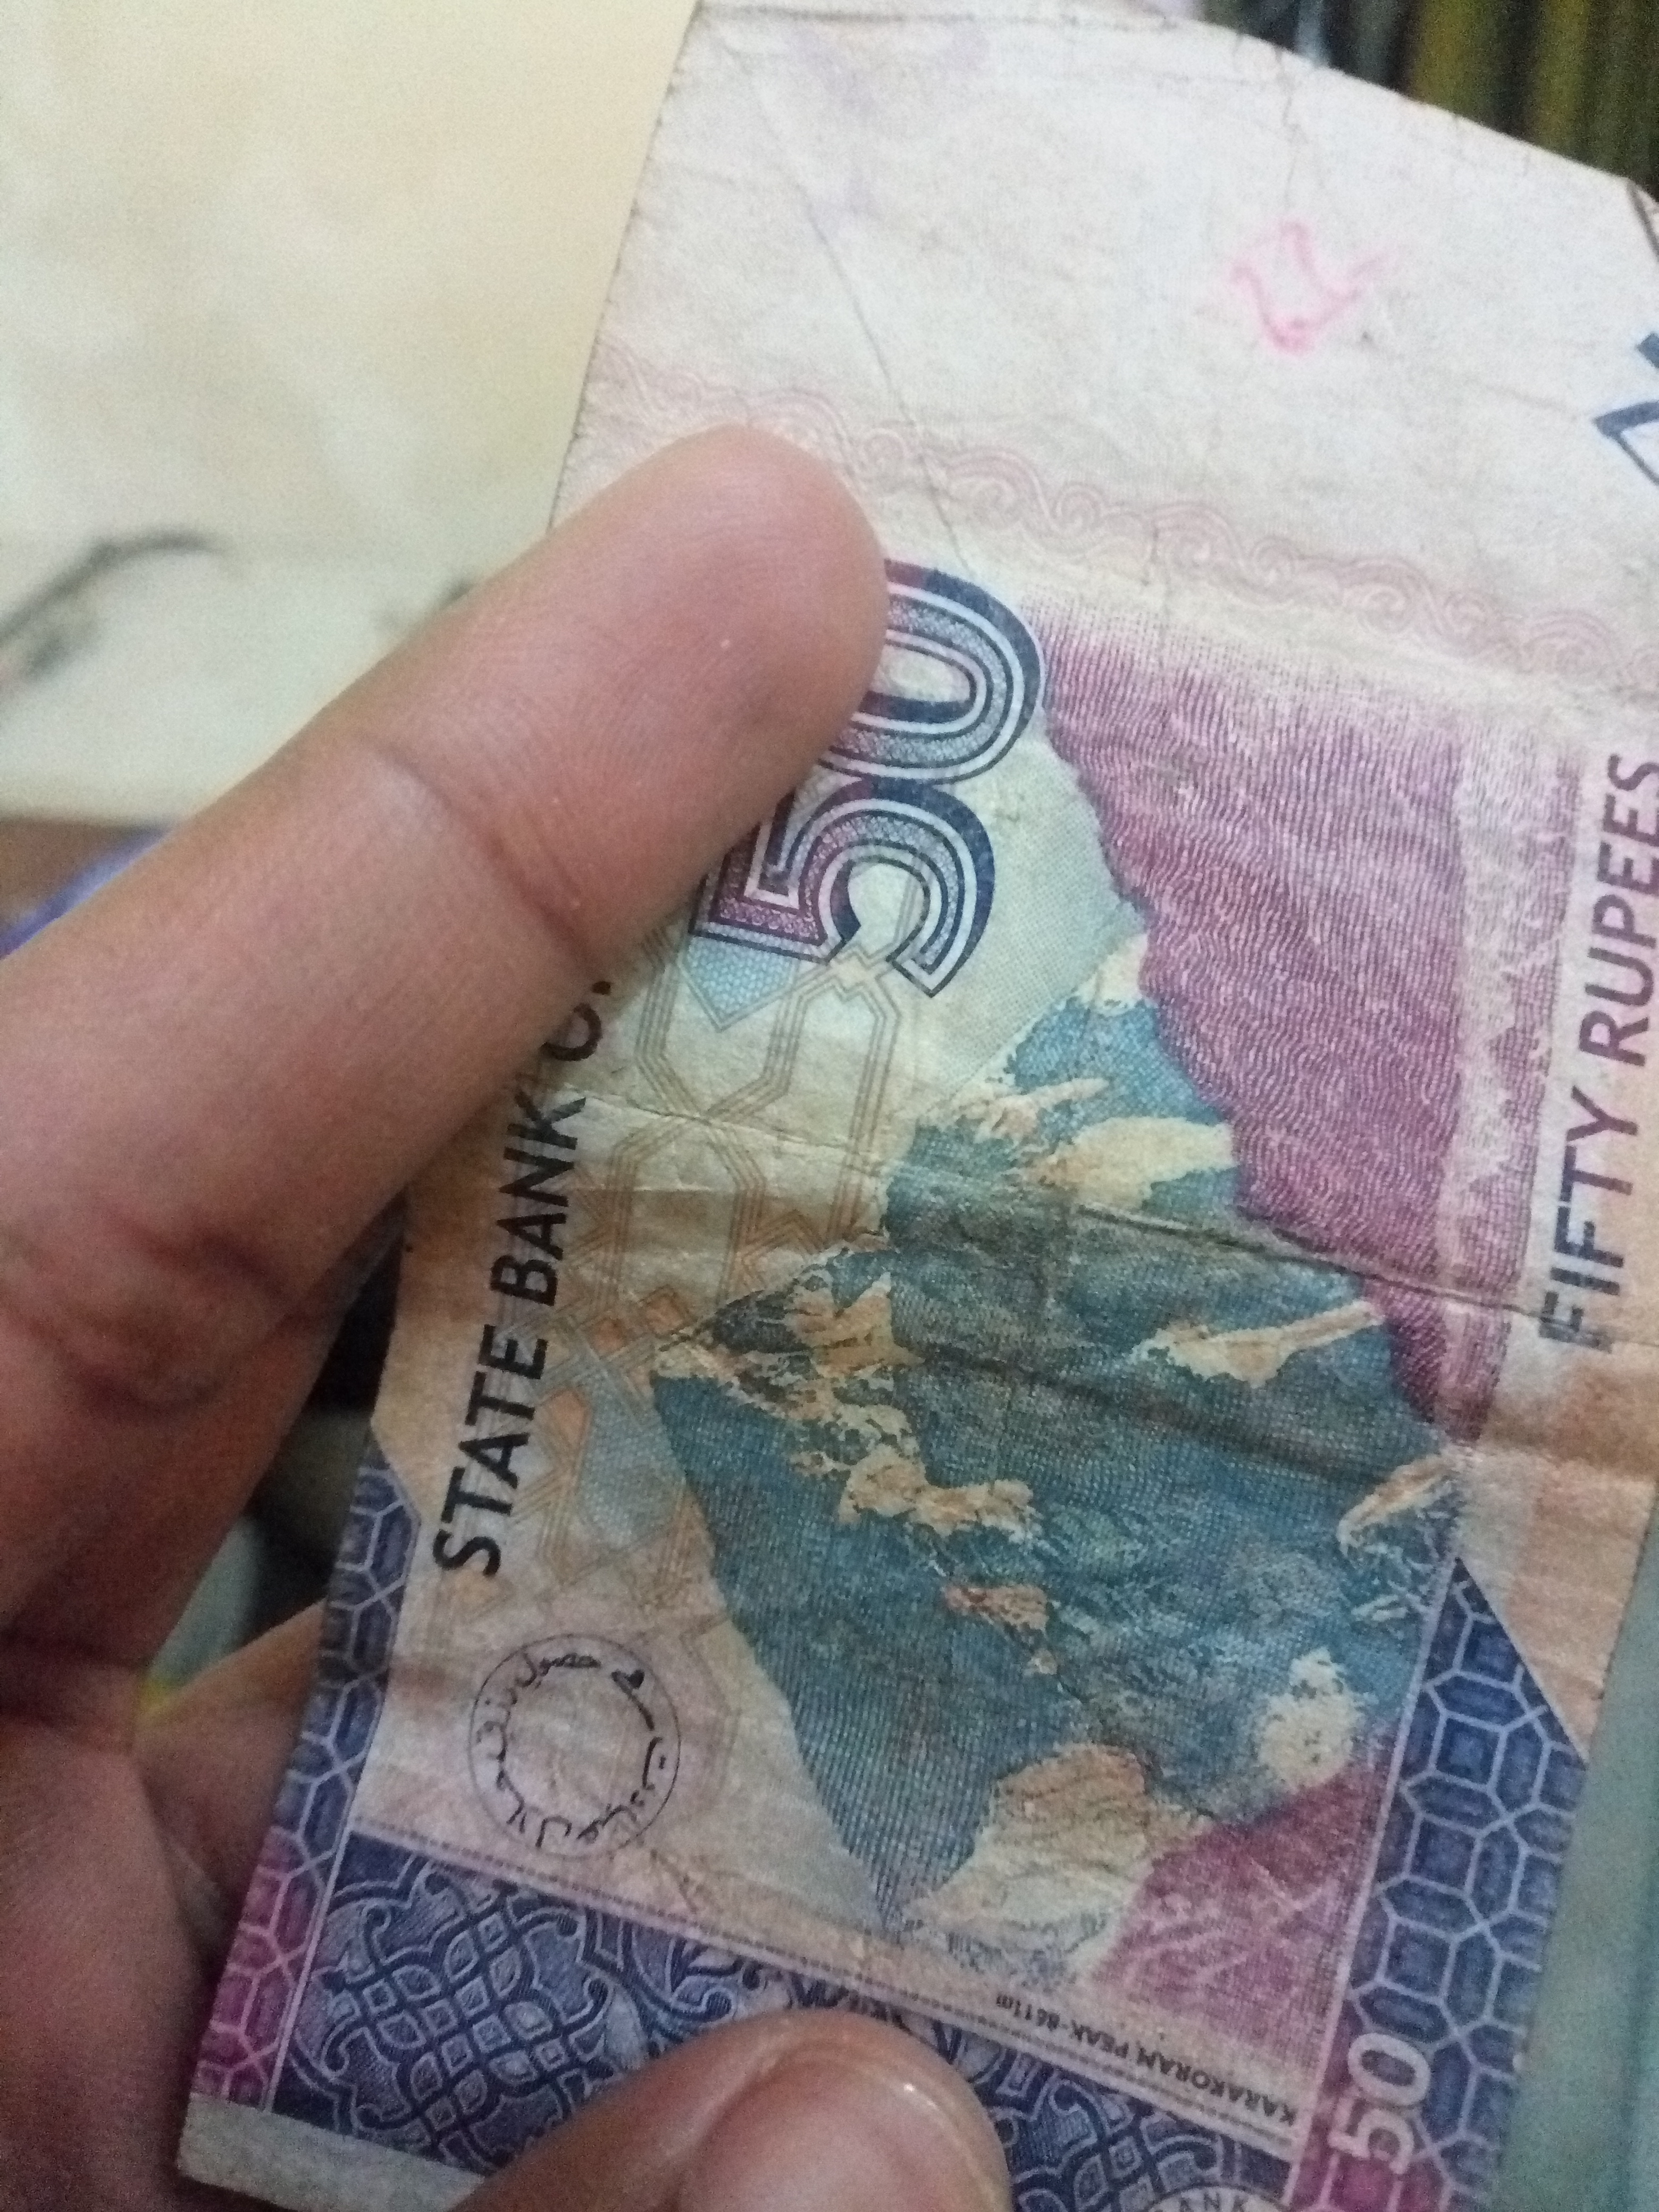50 rupee: (246, 23, 1643, 2179)
